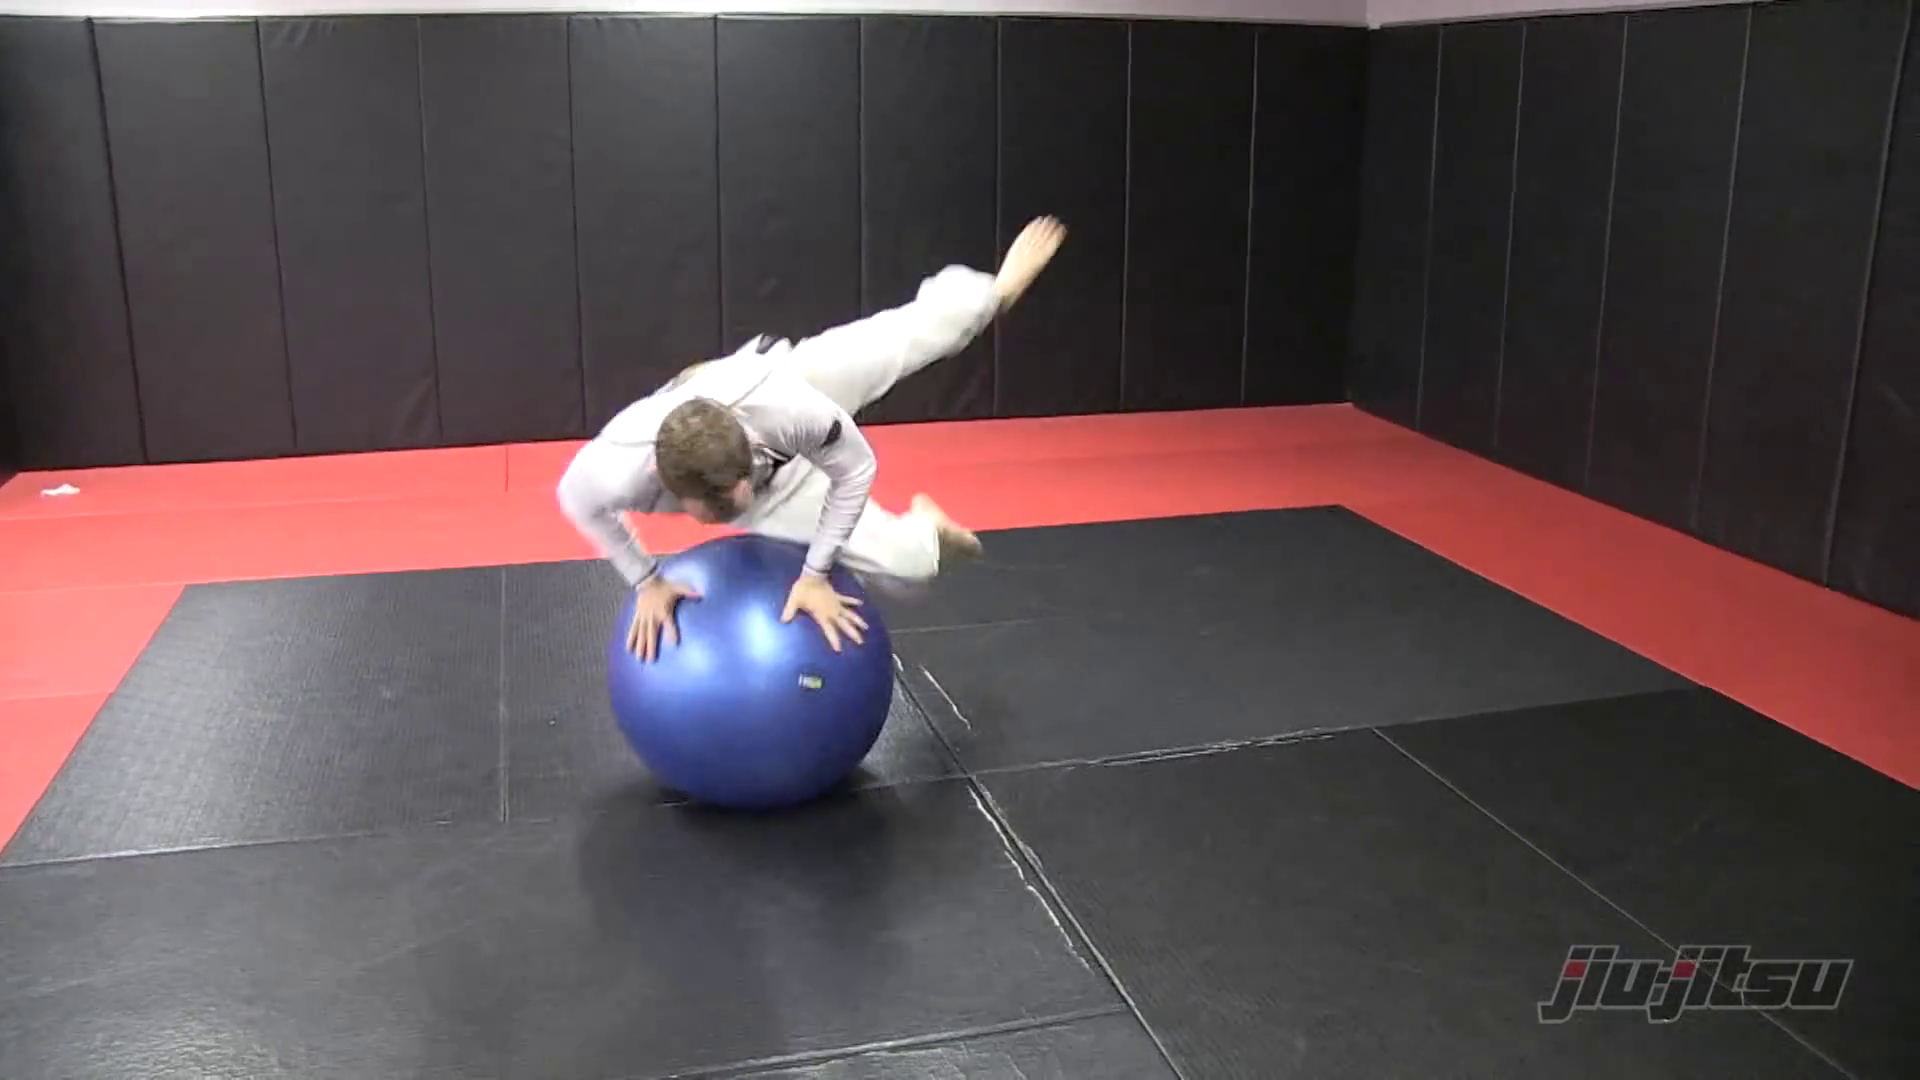yogaball: (595, 531, 897, 829)
